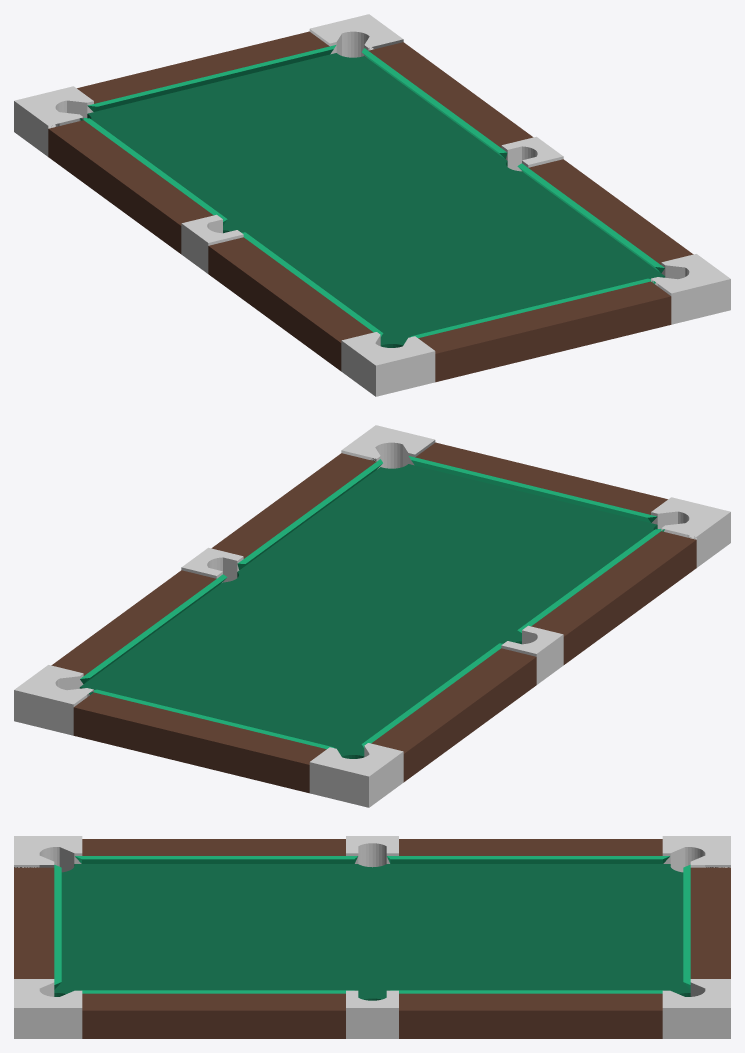
The model's file is table.glb.
3 views of the same model, one above another, from view 1: azimuth 30°, elevation 25°; view 2: azimuth 150°, elevation 25°; view 3: azimuth 270°, elevation 25° (orthographic).
Parts seen in each view (by area): view 1: Table_Bed, Rail, Pocket_Liners, Cushions; view 2: Table_Bed, Rail, Pocket_Liners, Cushions; view 3: Table_Bed, Rail, Pocket_Liners, Cushions.
Boxes of the visible parts, x1,y1,x2,y2 form: Table_Bed: (87,53,665,347); Rail: (48,31,693,382); Pocket_Liners: (14,14,730,396); Cushions: (80,45,664,338); Table_Bed: (79,464,657,758); Rail: (51,442,696,793); Pocket_Liners: (14,425,730,807); Cushions: (80,456,664,749); Table_Bed: (54,864,690,1000); Rail: (14,839,730,1038); Pocket_Liners: (14,836,730,1038); Cushions: (54,856,690,993).
Bounding box in the file's own units: 166 × 13.97 × 293.
